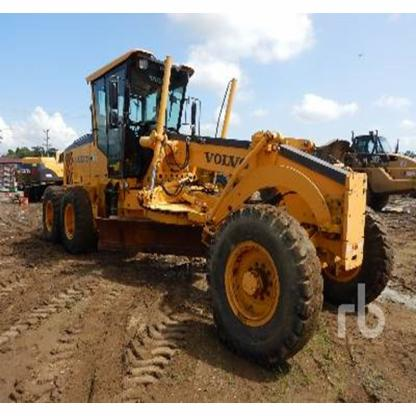bull_dozer/loader/grader: (37, 41, 396, 370)
